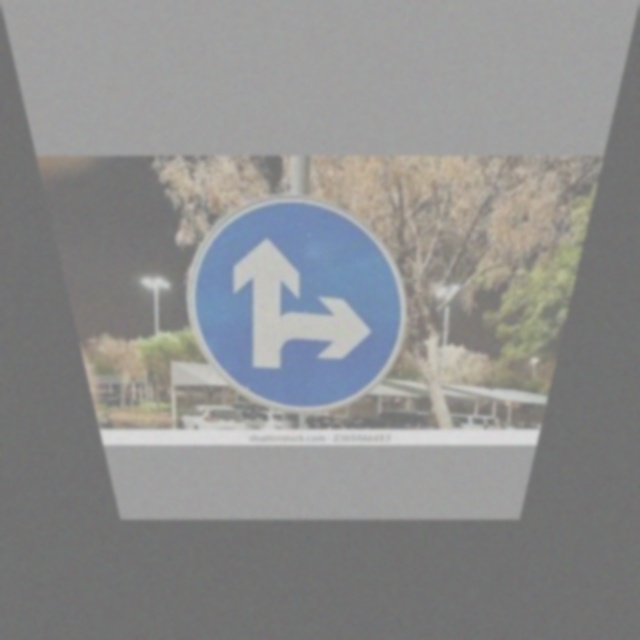Compulsory_Ahead_or_Turn_Right: (176, 196, 416, 409)
